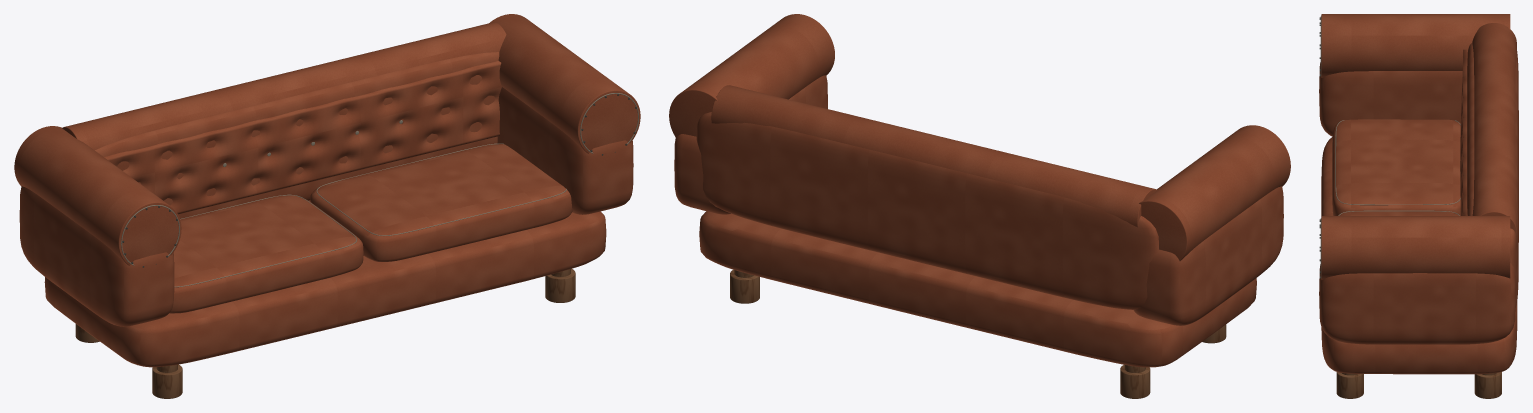
3 views of the same model, side by side, from view 1: azimuth 30°, elevation 25°; view 2: azimuth 150°, elevation 25°; view 3: azimuth 270°, elevation 25° (orthographic). The views are drawn at different scales.
Visible parts, largest first — view 1: Leather | lower upholstered rail, Leather | deeply buttoned back, Leather | loose seat.001, Leather | loose seat, Leather | generous arm roll, Leather | continuous rolled back, Leather | deep rolled arm body, Leather | generous arm roll.001, Leather | back foundation, Leather | deep rolled arm body.001, Walnut | bun foot lower, Walnut | bun foot lower.002 (+1 smaller); view 2: Leather | back foundation, Leather | lower upholstered rail, Leather | continuous rolled back, Leather | generous arm roll, Leather | deep rolled arm body, Leather | generous arm roll.001, Leather | deep rolled arm body.001, Walnut | bun foot lower.001, Walnut | bun foot lower.003; view 3: Leather | deep rolled arm body.001, Leather | loose seat, Leather | generous arm roll.001, Leather | generous arm roll, Leather | continuous rolled back, Leather | deep rolled arm body, Leather | lower upholstered rail, Leather | back foundation, Leather | deeply buttoned back, Walnut | bun foot lower.002, Walnut | bun foot lower.003, Leather | loose seat.001 (+2 smaller).
Boxes of the visible parts, x1=… form: Leather | lower upholstered rail: x1=44, y1=200, x2=606, y2=367; Leather | deeply buttoned back: x1=104, y1=61, x2=501, y2=214; Leather | loose seat.001: x1=310, y1=144, x2=572, y2=261; Leather | loose seat: x1=169, y1=195, x2=363, y2=313; Leather | generous arm roll: x1=14, y1=126, x2=181, y2=265; Leather | continuous rolled back: x1=62, y1=22, x2=506, y2=150; Leather | deep rolled arm body: x1=19, y1=186, x2=174, y2=326; Leather | generous arm roll.001: x1=489, y1=14, x2=640, y2=153; Leather | back foundation: x1=95, y1=52, x2=499, y2=218; Leather | deep rolled arm body.001: x1=497, y1=87, x2=633, y2=214; Walnut | bun foot lower: x1=152, y1=364, x2=182, y2=398; Walnut | bun foot lower.002: x1=545, y1=268, x2=575, y2=302; Leather | back foundation: x1=696, y1=112, x2=1158, y2=309; Leather | lower upholstered rail: x1=699, y1=211, x2=1256, y2=367; Leather | continuous rolled back: x1=711, y1=85, x2=1157, y2=227; Leather | generous arm roll: x1=1139, y1=125, x2=1290, y2=260; Leather | deep rolled arm body: x1=1133, y1=186, x2=1283, y2=325; Leather | generous arm roll.001: x1=669, y1=14, x2=834, y2=137; Leather | deep rolled arm body.001: x1=674, y1=75, x2=827, y2=214; Walnut | bun foot lower.001: x1=1120, y1=364, x2=1150, y2=398; Walnut | bun foot lower.003: x1=730, y1=269, x2=759, y2=303; Leather | deep rolled arm body.001: x1=1319, y1=263, x2=1515, y2=344; Leather | loose seat: x1=1332, y1=119, x2=1460, y2=215; Leather | generous arm roll.001: x1=1321, y1=216, x2=1510, y2=279; Leather | generous arm roll: x1=1321, y1=14, x2=1510, y2=77; Leather | continuous rolled back: x1=1472, y1=23, x2=1516, y2=235; Leather | deep rolled arm body: x1=1319, y1=62, x2=1462, y2=136; Leather | lower upholstered rail: x1=1321, y1=137, x2=1517, y2=374; Leather | back foundation: x1=1467, y1=43, x2=1518, y2=307; Leather | deeply buttoned back: x1=1460, y1=49, x2=1467, y2=215; Walnut | bun foot lower.002: x1=1336, y1=372, x2=1363, y2=398; Walnut | bun foot lower.003: x1=1474, y1=372, x2=1501, y2=398; Leather | loose seat.001: x1=1337, y1=211, x2=1460, y2=215.
Bounding box in the file's own units: 2.42 × 0.93 × 0.888.
4 materials, 2 textured.
